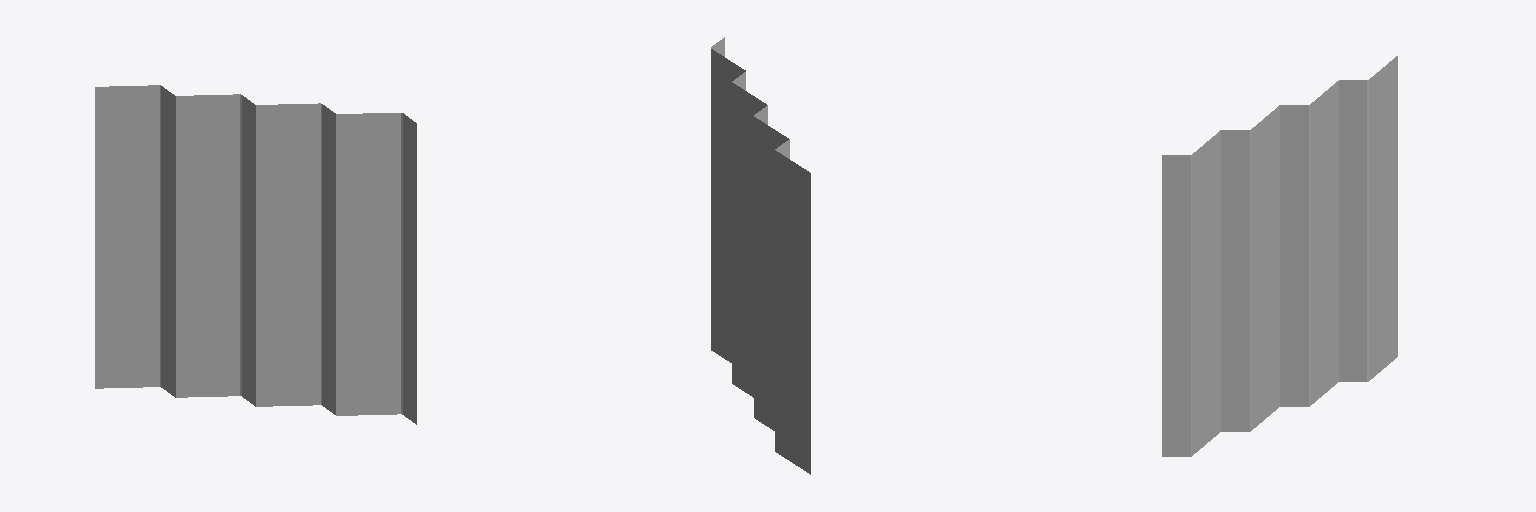
The model's file is kit_40x40m_terrain_002.010.obj.
3 views of the same model, side by side, from view 1: azimuth 30°, elevation 25°; view 2: azimuth 150°, elevation 25°; view 3: azimuth 270°, elevation 25° (orthographic).
Visible parts, largest first — view 1: kit_40x40m_terrain_002.010; view 2: kit_40x40m_terrain_002.010; view 3: kit_40x40m_terrain_002.010.
Boxes of the visible parts, x1=… form: kit_40x40m_terrain_002.010: x1=95, y1=85, x2=416, y2=424; kit_40x40m_terrain_002.010: x1=711, y1=37, x2=810, y2=474; kit_40x40m_terrain_002.010: x1=1162, y1=56, x2=1397, y2=456.
Bounding box in the file's own units: 28.28 × 40 × 28.28.